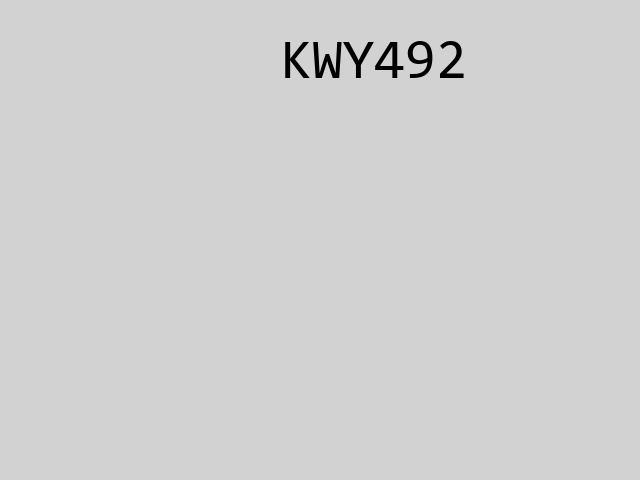OCR_AREA: (277, 37, 471, 82)
